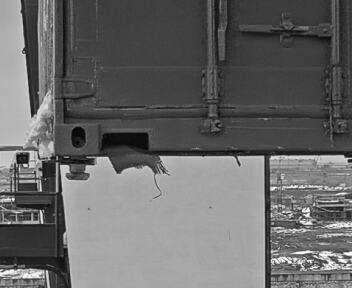twist_lock_1: (54, 150, 102, 186)
